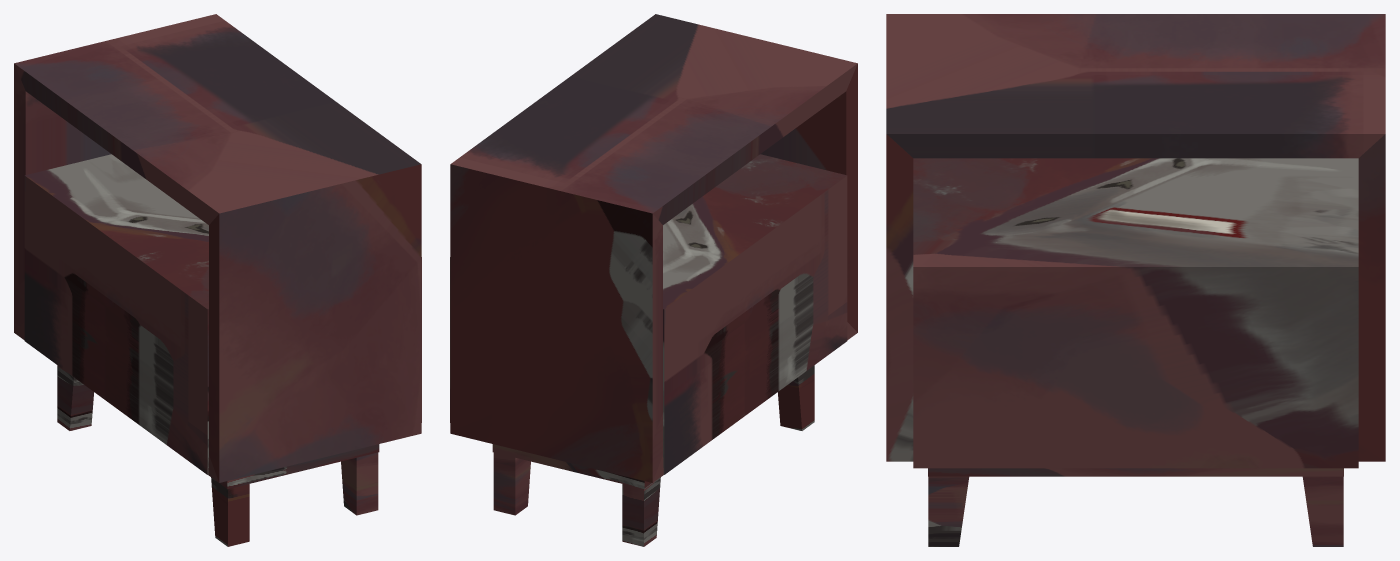
File: nightstand.fbx
3 views of the same model, side by side, from view 1: azimuth 30°, elevation 25°; view 2: azimuth 150°, elevation 25°; view 3: azimuth 270°, elevation 25° (orthographic). The views are drawn at different scales.
Parts seen in each view (by area): view 1: nightstand; view 2: nightstand; view 3: nightstand.
Part boxes in pixels (x1=…): nightstand: x1=14, y1=14, x2=421, y2=546; nightstand: x1=450, y1=14, x2=857, y2=546; nightstand: x1=886, y1=14, x2=1385, y2=546.
Bounding box in the file's own units: 200 × 314 × 332.
